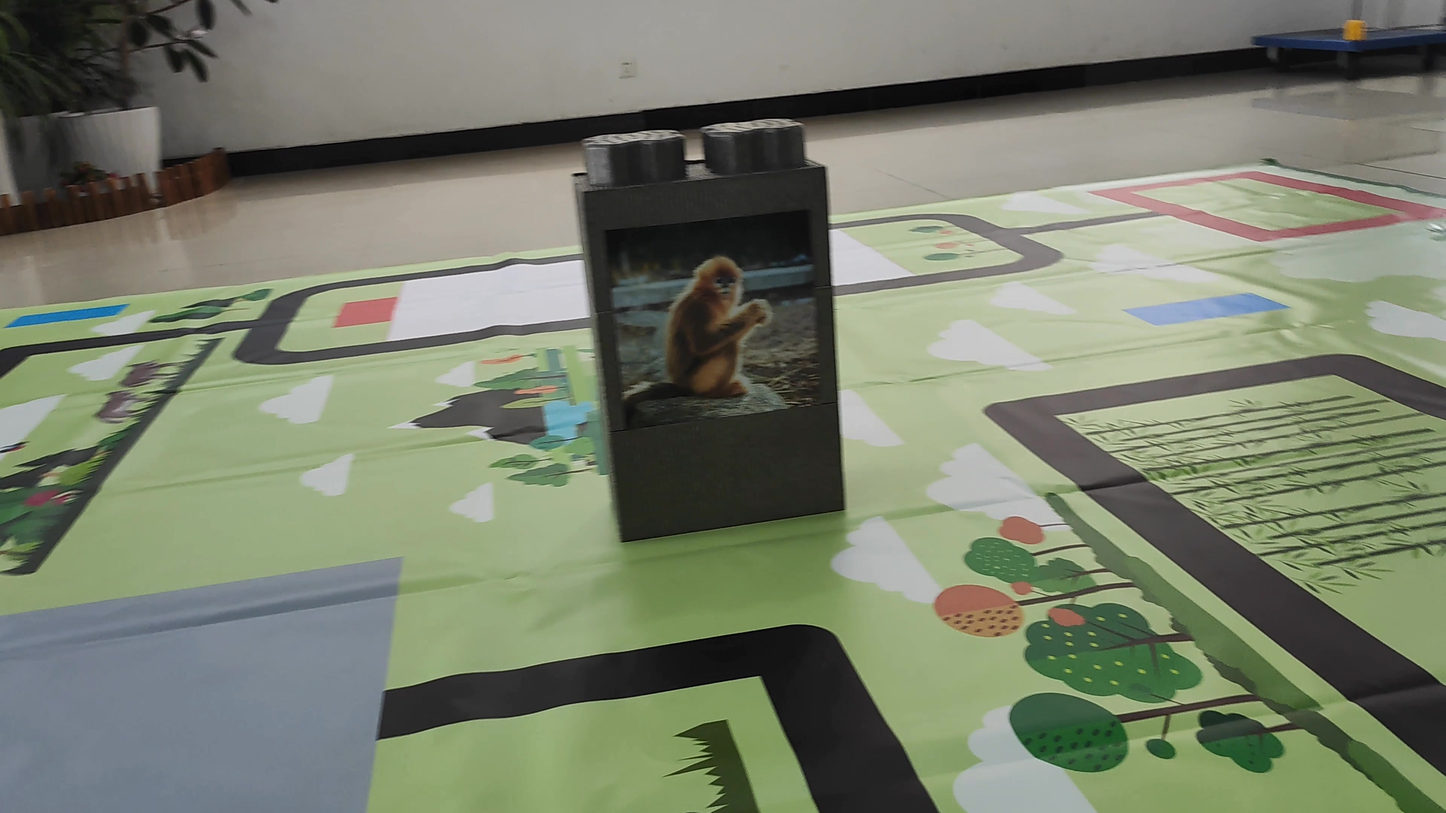monkey: (615, 236, 800, 429)
